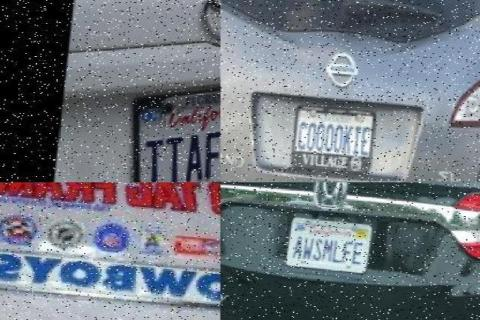LicensePlate: (0, 182, 220, 237), (130, 87, 219, 181), (282, 103, 372, 172), (279, 215, 373, 277)
